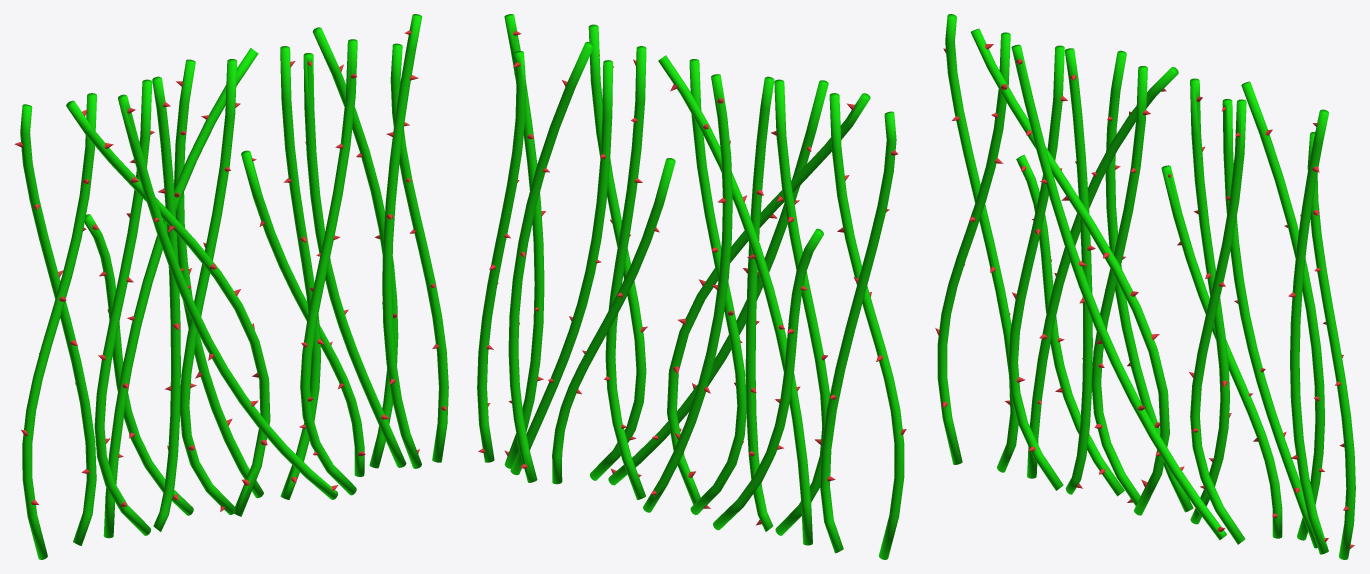
Rendered from Thorns.fbx.
3 renders of one model, left to right at view 1: azimuth 30°, elevation 25°; view 2: azimuth 150°, elevation 25°; view 3: azimuth 330°, elevation 25°, orthographic. The views are drawn at different scales.
Visible parts, largest first — view 1: Thorns; view 2: Thorns; view 3: Thorns.
Boxes of the visible parts, x1,y1,x2,y2 form: Thorns: [14, 14, 448, 559]; Thorns: [477, 14, 906, 559]; Thorns: [935, 14, 1355, 559].
Bounding box in the file's own units: 199 × 203 × 25.36.
